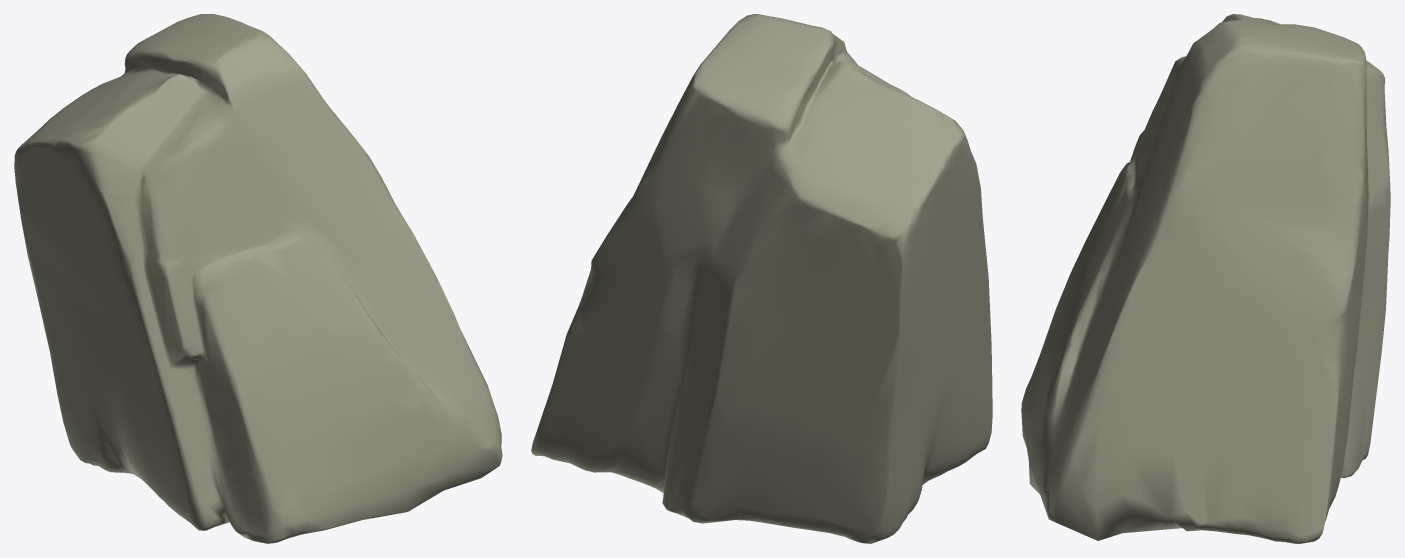
The picture shows the model from 3 angles, left to right: view 1: azimuth 30°, elevation 25°; view 2: azimuth 150°, elevation 25°; view 3: azimuth 270°, elevation 25°; orthographic projection. The views are drawn at different scales.
Visible parts, largest first — view 1: SM_Cliff_Bottom_Rock_04_LOD0; view 2: SM_Cliff_Bottom_Rock_04_LOD0; view 3: SM_Cliff_Bottom_Rock_04_LOD0.
Part boxes in pixels (left/top/right/bottom): SM_Cliff_Bottom_Rock_04_LOD0: left=14, top=14, right=502, bottom=543; SM_Cliff_Bottom_Rock_04_LOD0: left=531, top=14, right=992, bottom=543; SM_Cliff_Bottom_Rock_04_LOD0: left=1021, top=14, right=1390, bottom=543.
Size of the model in its own units: 2.39 by 2.61 by 2.07.
